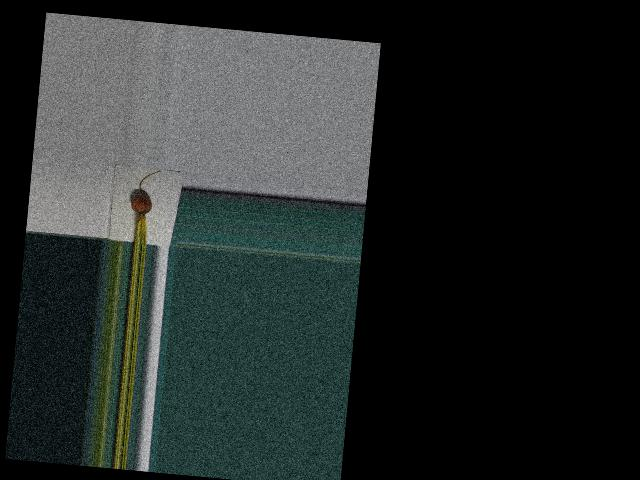beet: (127, 168, 160, 244)
